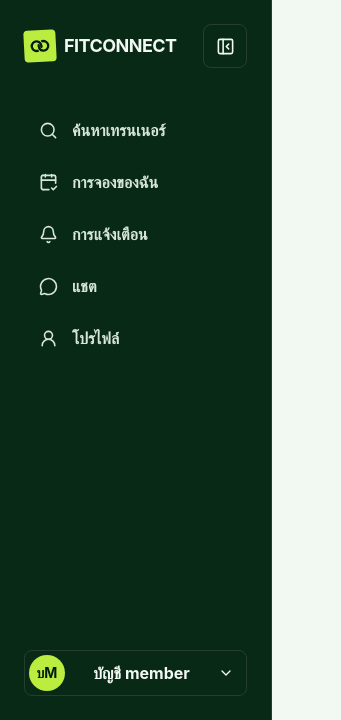
SiteHeader › keeps the account menu mounted and usable while the sidebar is collapsed
The width and height of the screenshot is (341, 720).
What coordinates should you click on to do the following:
click the button named "ย่อแถบเมนู"
I would click on:
 (225, 46)
Its box is [203,24,247,68].
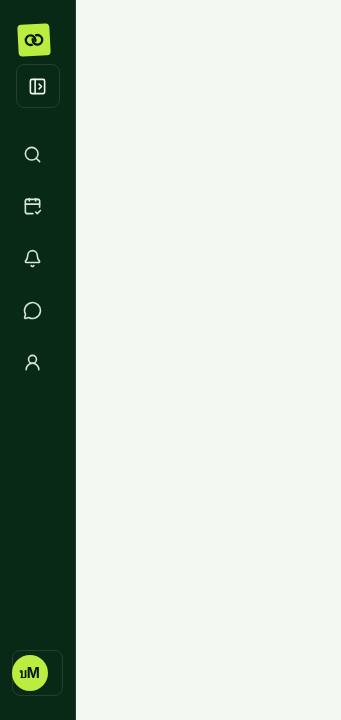
What coordinates should you click on to do the following:
click the button with aria-label "เปิดเมนูบัญชีของ บัญชี member"
I would click on:
 (38, 673)
Its box is [12,650,63,696].
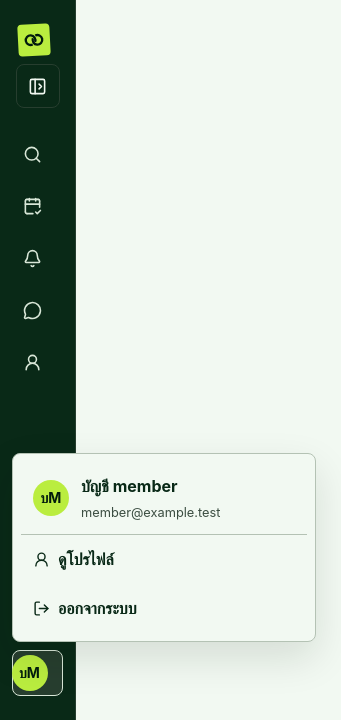
Now the button "ออกจากระบบ" is shown, box [21,584,307,633]
